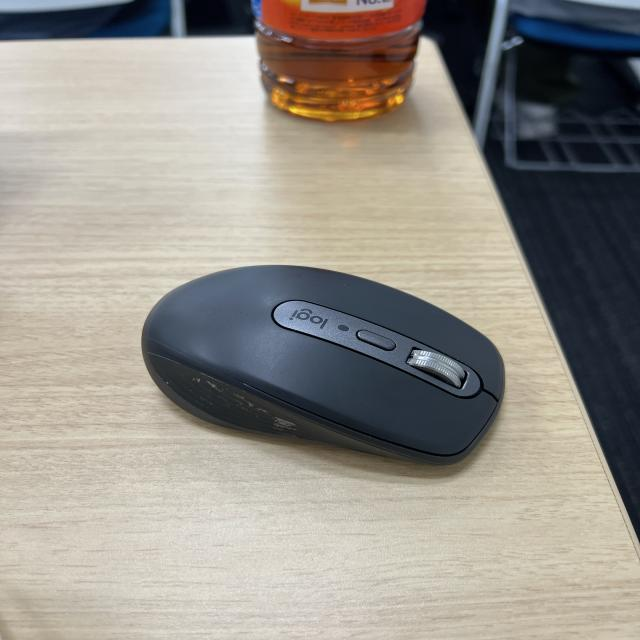mouse: (143, 245, 518, 478)
